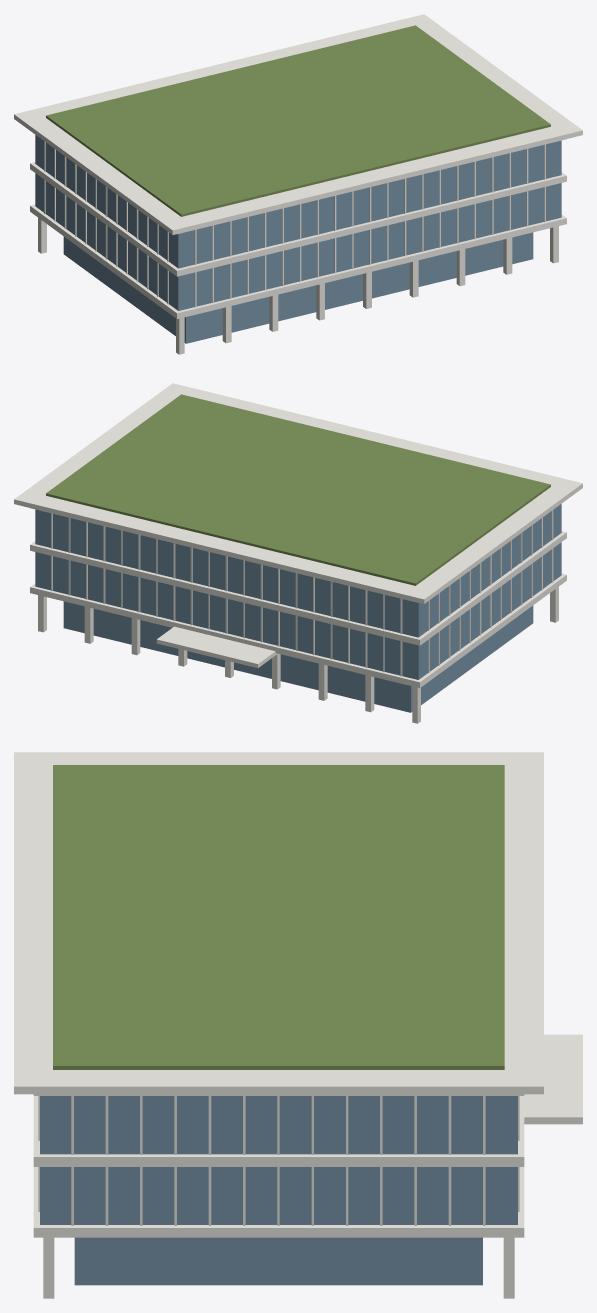
File: google_pavilion3.glb
3 views of the same model, one above another, from view 1: azimuth 30°, elevation 25°; view 2: azimuth 150°, elevation 25°; view 3: azimuth 270°, elevation 25° (orthographic). The views are drawn at different scales.
Visible parts, largest first — view 1: google_pavilion3; view 2: google_pavilion3; view 3: google_pavilion3.
Boxes of the visible parts, bbox=[...] form: google_pavilion3: bbox=[14, 14, 582, 354]; google_pavilion3: bbox=[14, 383, 582, 723]; google_pavilion3: bbox=[14, 752, 582, 1298].
Bounding box in the file's own units: 36.4 × 11.6 × 26.2.
